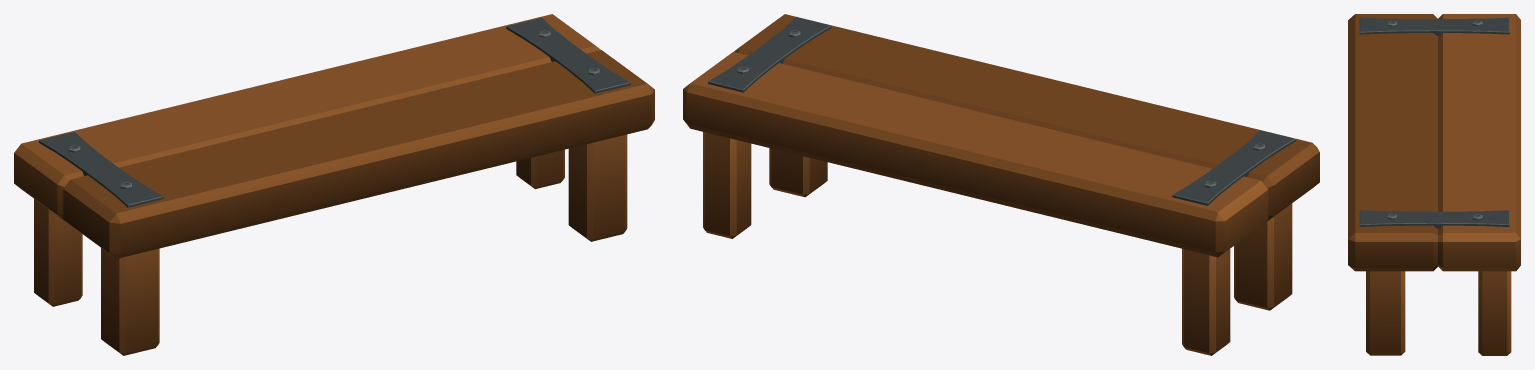
Rendered from Bank-2.fbx.
The picture shows the model from 3 angles, left to right: view 1: azimuth 30°, elevation 25°; view 2: azimuth 150°, elevation 25°; view 3: azimuth 270°, elevation 25°; orthographic projection. The views are drawn at different scales.
Visible parts, largest first — view 1: Bank-2; view 2: Bank-2; view 3: Bank-2.
Part boxes in pixels (x1,y1,x2,y2): Bank-2: (14, 14, 654, 355); Bank-2: (683, 14, 1319, 355); Bank-2: (1348, 14, 1520, 355).
Size of the model in its own units: 343 by 95.34 by 112.
